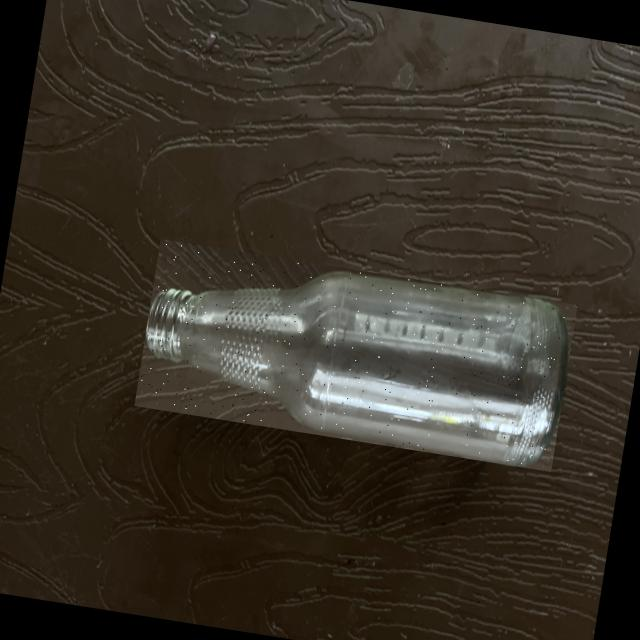Glass_Bottle: (147, 272, 568, 465)
